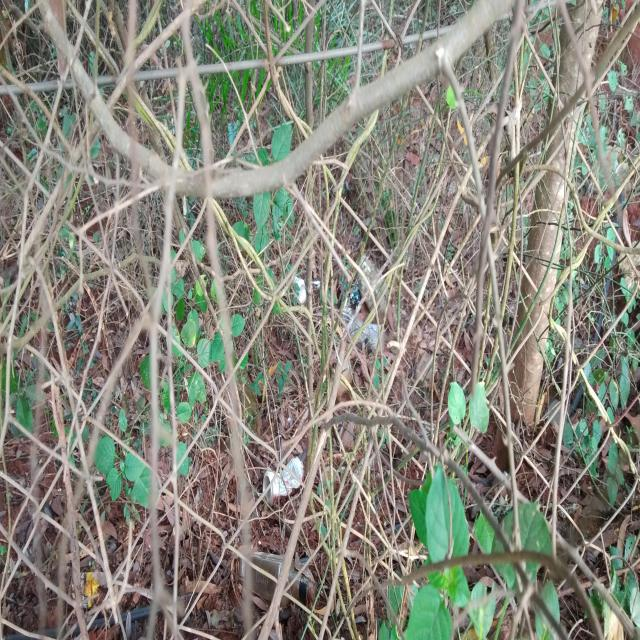litter: (237, 551, 316, 607), (340, 297, 386, 354), (263, 457, 304, 506), (80, 572, 99, 609), (291, 275, 308, 307), (348, 278, 361, 309), (311, 281, 320, 288)
